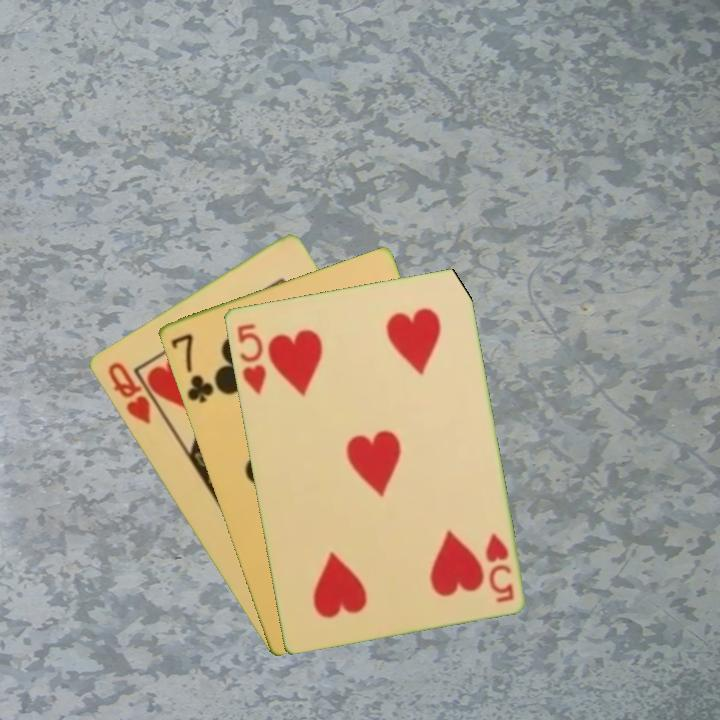5h: (233, 319, 269, 397), (481, 529, 517, 605)
7c: (167, 329, 216, 406)
Qh: (104, 358, 154, 428)
